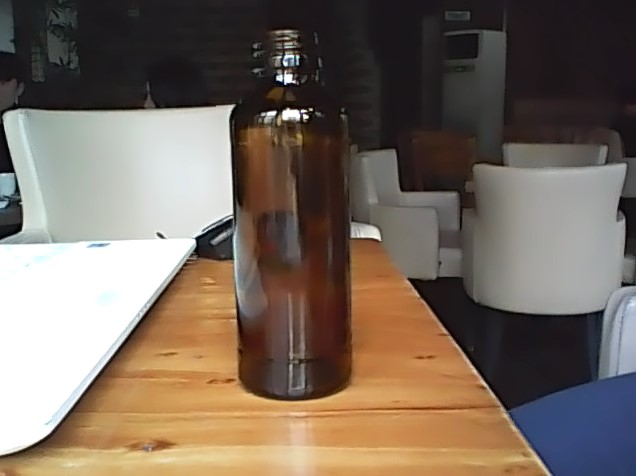Glass: (228, 27, 362, 409)
